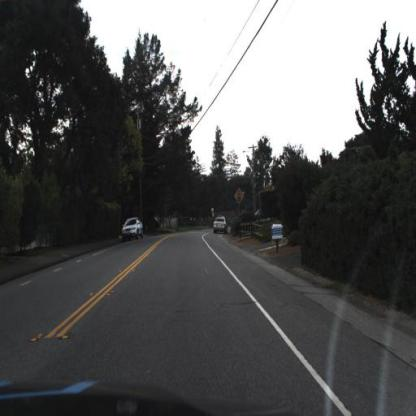car: (121, 216, 145, 243), (213, 217, 229, 234)
